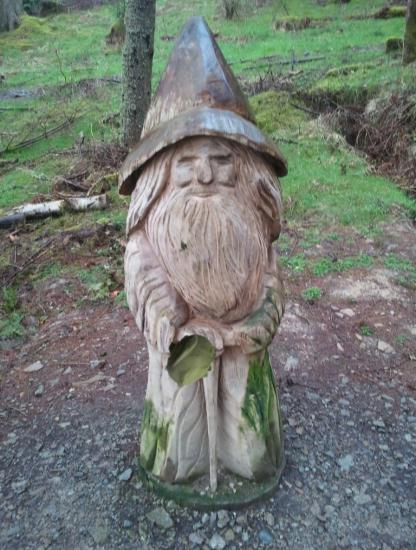Kohlrabi: (160, 331, 218, 389)
